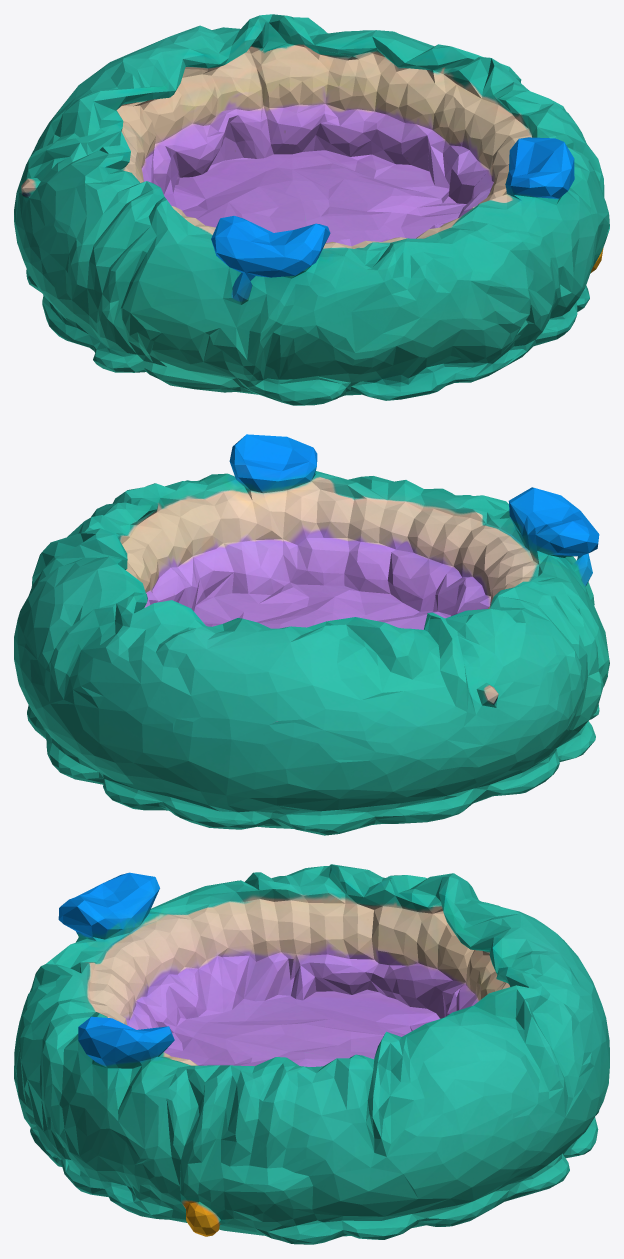
File: deco_cat_bed.glb
The picture shows the model from 3 angles, top to bottom: view 1: azimuth 30°, elevation 25°; view 2: azimuth 150°, elevation 25°; view 3: azimuth 270°, elevation 25°; orthographic projection.
Visible parts, largest first — view 1: world; view 2: world; view 3: world.
Part boxes in pixels (x1=…): world: x1=14, y1=14, x2=609, y2=405; world: x1=14, y1=434, x2=609, y2=835; world: x1=14, y1=864, x2=609, y2=1244.
Size of the model in its own units: 0.9998 by 0.3653 by 1.
1 material, 1 textured.
